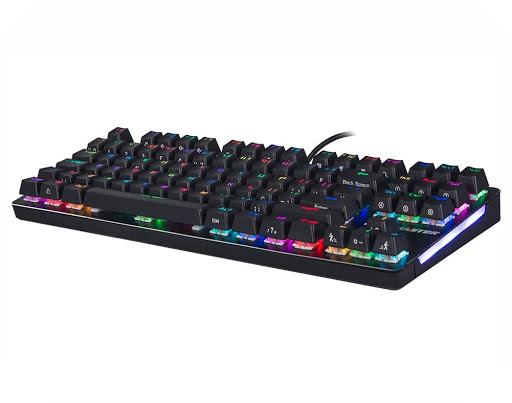keyboard: (11, 124, 501, 292)
